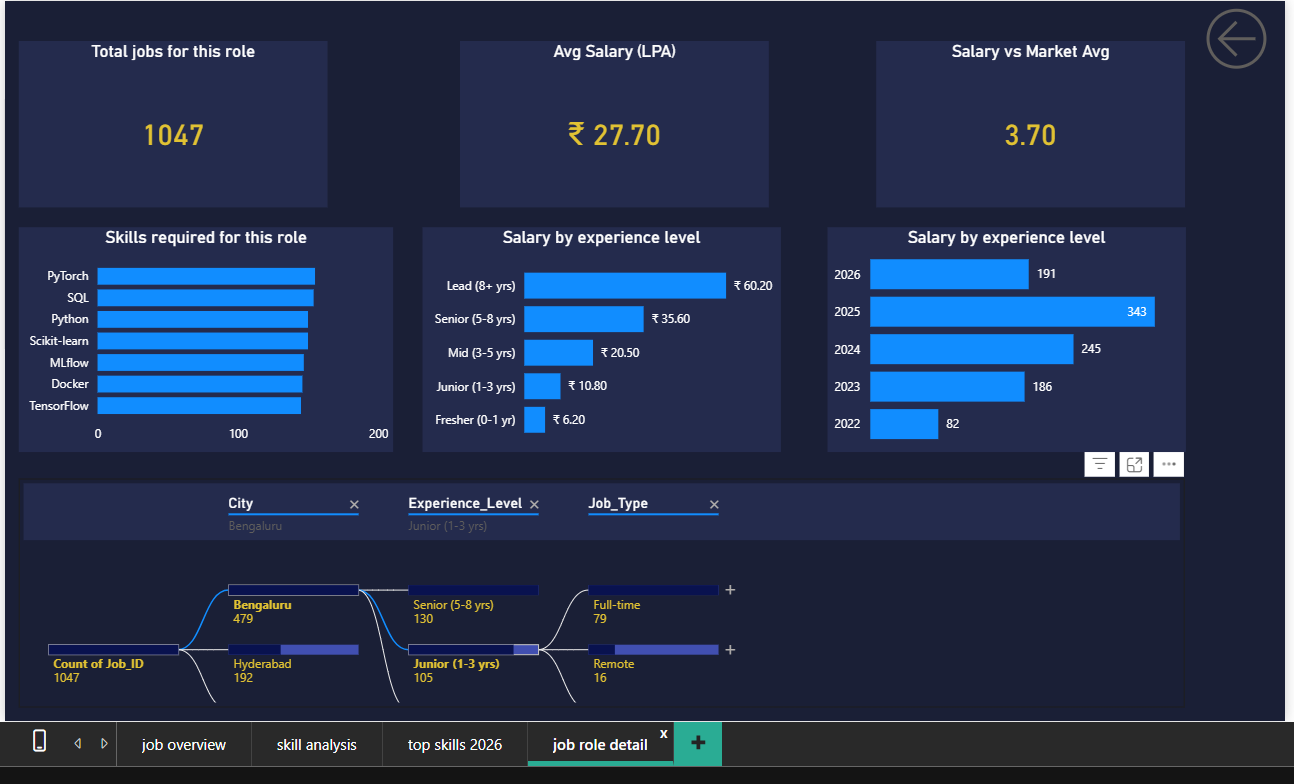

This screenshot's page, from the dashboard's own definition file:
{"tool":"powerbi","page":{"name":"job role detail","canvas":[1280,720],"ordinal":3},"visuals":[{"type":"actionButton","box":[1193.8,0,86.4,75.5],"z":0},{"type":"card","title":"Total jobs for this role","fields":{"Values":["calculation_Table.Total Jobs"]},"box":[13.7,39.8,308.7,166],"z":1000},{"type":"clusteredBarChart","title":"Skills required for this role","fields":{"Category":["ai_job_market_india.skill"],"Y":["CountNonNull(ai_job_market_india.Job_ID)"]},"box":[13.7,226.4,374.6,225],"z":2000},{"type":"clusteredBarChart","title":"Salary by experience level","fields":{"Category":["ai_job_market_india.Experience_Level"],"Y":["calculation_Table.Avg Salary LPA"]},"box":[417.2,226.4,358.1,225],"z":3000},{"type":"decompositionTreeVisual","fields":{"Analyze":["CountNonNull(ai_job_market_india.Job_ID)"],"ExplainBy":["ai_job_market_india.City","ai_job_market_india.Experience_Level","ai_job_market_india.Job_Type","ai_job_market_india.Company"]},"box":[13.7,477.5,1166.4,229.2],"z":4000},{"type":"card","title":"Avg Salary (LPA)","fields":{"Values":["calculation_Table.Avg Salary LPA"]},"box":[455.6,39.8,308.7,166],"z":5000},{"type":"card","title":"Salary vs Market Avg","fields":{"Values":["calculation_Table.Salary Premium %"]},"box":[871.4,39.8,308.7,166],"z":6000},{"type":"clusteredBarChart","title":"Salary by experience level","fields":{"Y":["CountNonNull(ai_job_market_india.Job_ID)"],"Category":["ai_job_market_india.Year"]},"box":[822,226.4,358.1,225],"z":7000}]}

Visuals, with their boxes on the page's 1280x720 design canvas (x1, y1, x2, y2). These are canvas units, not pixel positions in the 1294x784 screenshot, which may show the page scaled, cropped or inside an application window:
actionButton: select_region(1194, 0, 1280, 76)
"Total jobs for this role" card: select_region(14, 40, 322, 206)
"Skills required for this role" clusteredBarChart: select_region(14, 226, 388, 451)
"Salary by experience level" clusteredBarChart: select_region(417, 226, 775, 451)
decompositionTreeVisual - CountNonNull(ai_job_market_india.Job_ID) x ai_job_market_india.City: select_region(14, 478, 1180, 707)
"Avg Salary (LPA)" card: select_region(456, 40, 764, 206)
"Salary vs Market Avg" card: select_region(871, 40, 1180, 206)
"Salary by experience level" clusteredBarChart: select_region(822, 226, 1180, 451)
